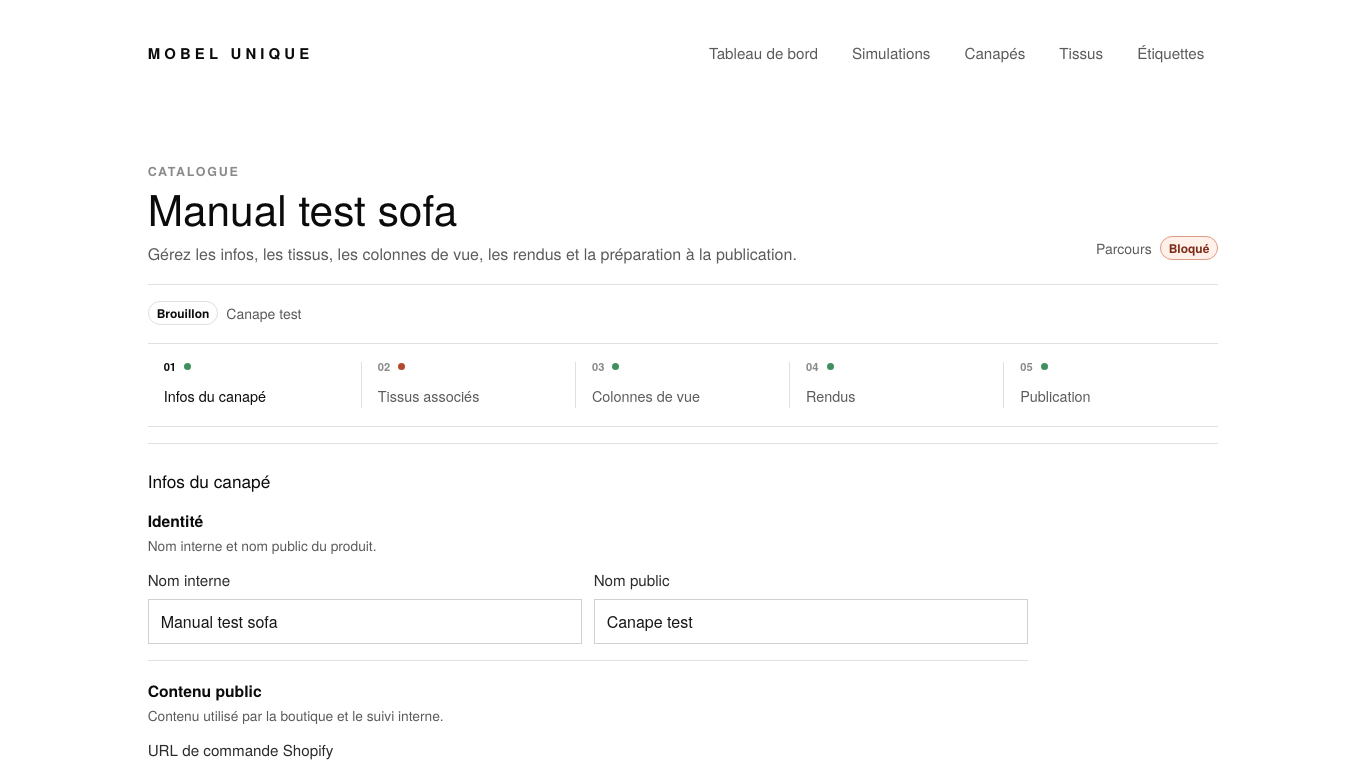
Admin catalog pages › shows sofa edit tabs, readiness chips, and render coverage panel
The image size is (1366, 766).
Check: the heading "Manual test sofa" is shown, box left=148, top=178, right=457, bottom=240
Check: the tab "02 Tissus associés" is shown, box left=362, top=358, right=576, bottom=412
Click the tab "04 Rendus".
click(897, 385)  # box left=790, top=358, right=1004, bottom=412
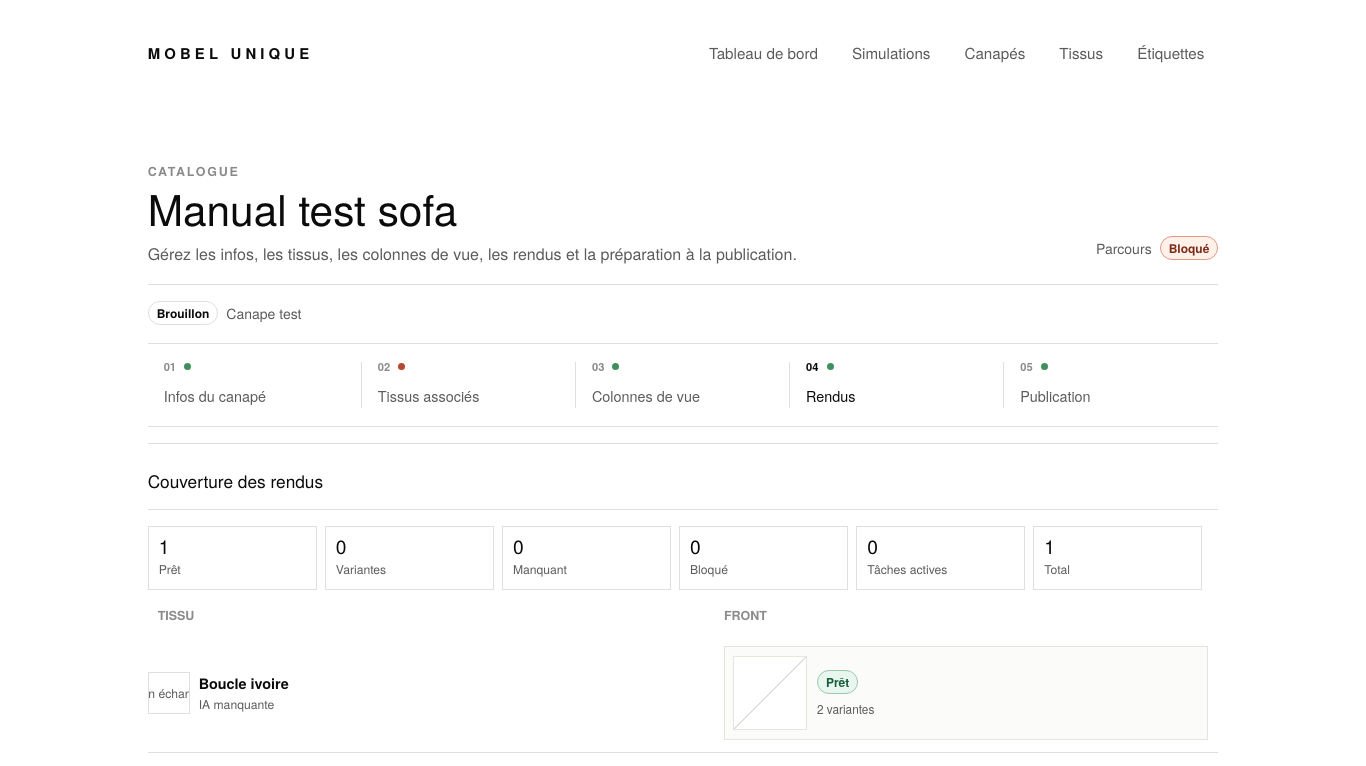
Check: the heading "Couverture des rendus" is shown, box left=148, top=468, right=323, bottom=493
Check: the button with aria-label "Boucle ivoire, Front : Prêt" is shown
Click the button with aria-label "Boucle ivoire, Front : Prêt".
click(770, 693)  # box left=724, top=646, right=1208, bottom=740
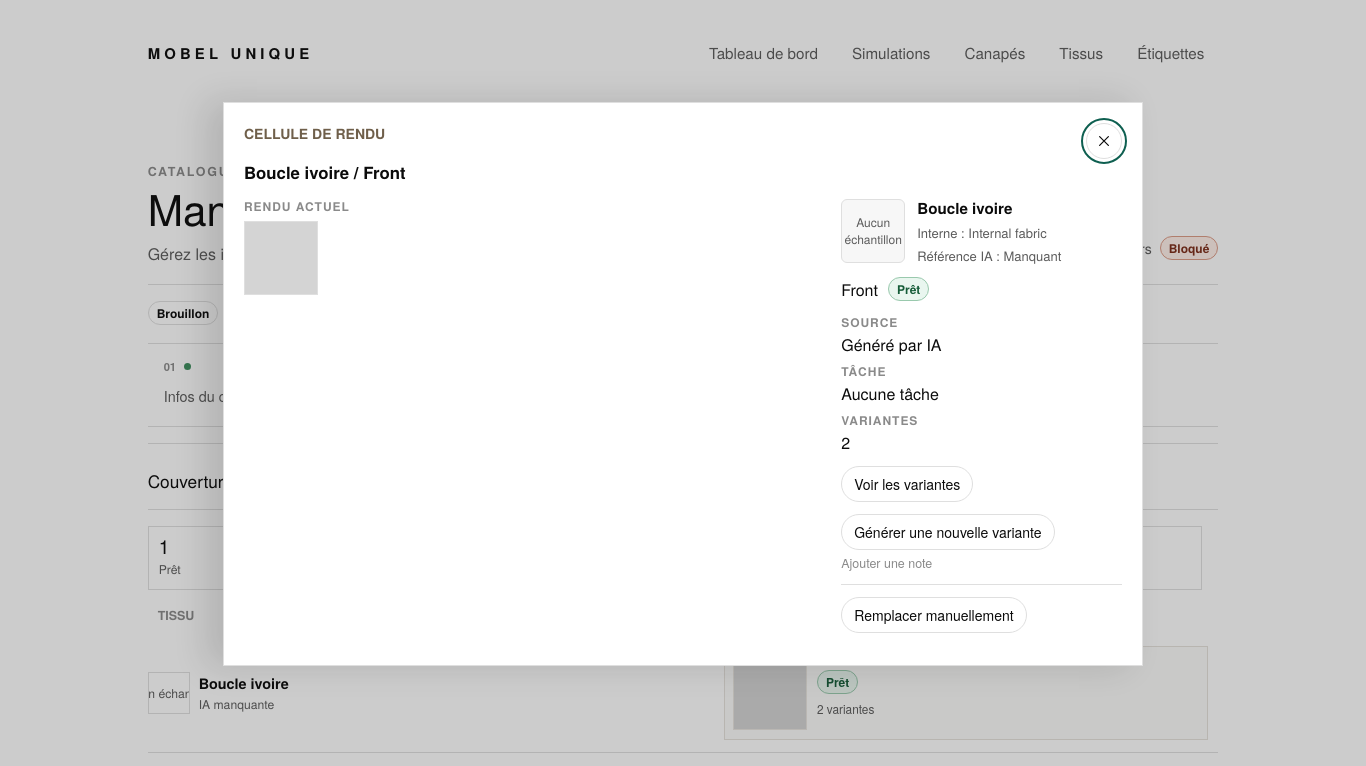
Check: the text "Généré par IA" is shown, box left=841, top=333, right=942, bottom=356
